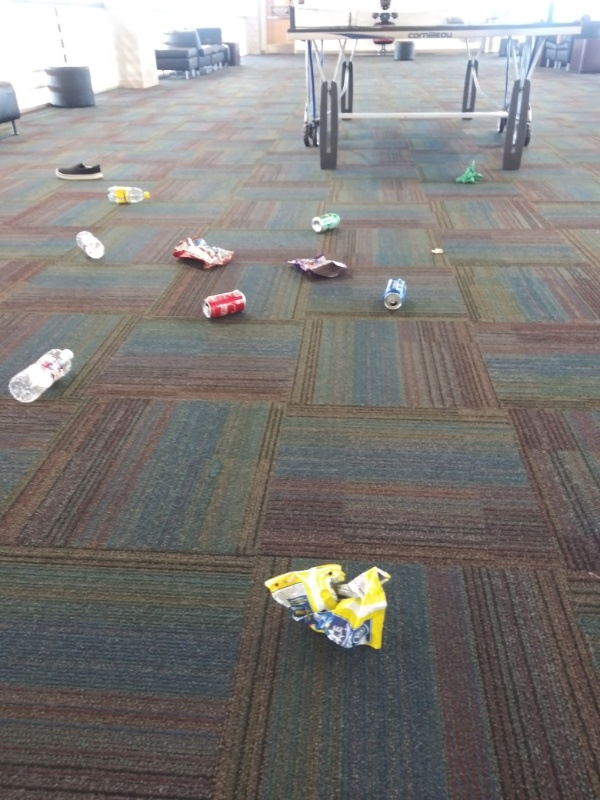bag: (260, 559, 392, 658), (168, 234, 236, 275), (281, 252, 349, 279)
bottle: (5, 345, 78, 406), (72, 227, 108, 263), (104, 182, 154, 207)
can: (200, 286, 249, 320), (381, 274, 408, 314), (307, 211, 344, 231)
